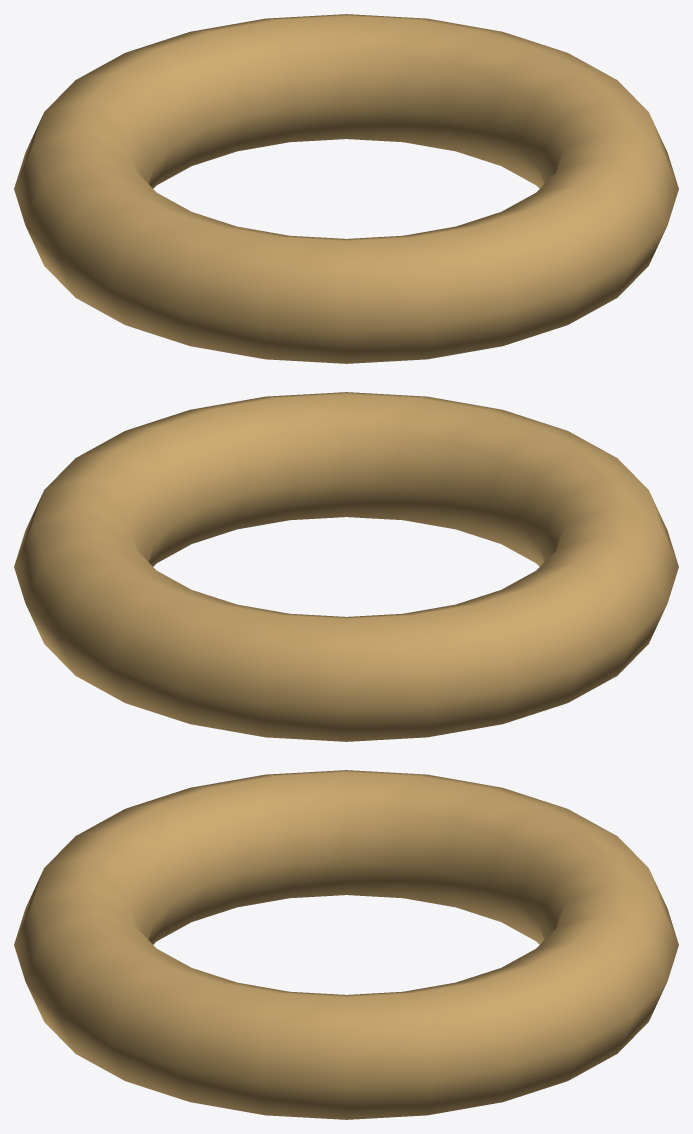
File: p0092-ventsy-brachnye-mednye.glb
3 views of the same model, one above another, from view 1: azimuth 30°, elevation 25°; view 2: azimuth 150°, elevation 25°; view 3: azimuth 270°, elevation 25° (orthographic).
Visible parts, largest first — view 1: p0092-ventsy-brachnye-mednye; view 2: p0092-ventsy-brachnye-mednye; view 3: p0092-ventsy-brachnye-mednye.
Part boxes in pixels (bbox=[...]): p0092-ventsy-brachnye-mednye: bbox=[14, 14, 678, 363]; p0092-ventsy-brachnye-mednye: bbox=[14, 392, 678, 741]; p0092-ventsy-brachnye-mednye: bbox=[14, 770, 678, 1119].
Bounding box in the file's own units: 0.25 × 0.05 × 0.25.
